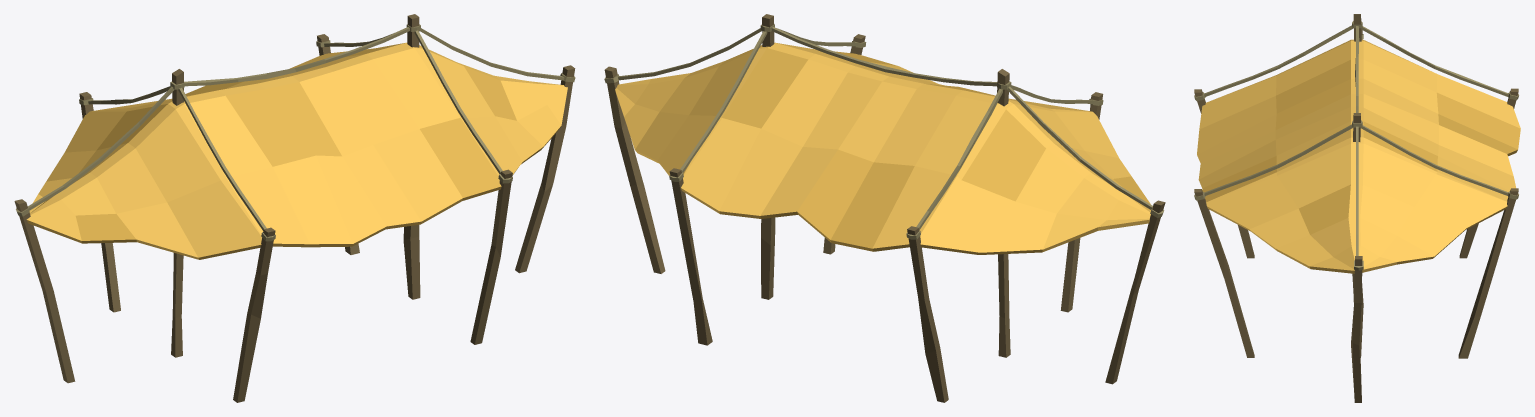
The model's file is Market_2.fbx.
3 renders of one model, left to right at view 1: azimuth 30°, elevation 25°; view 2: azimuth 150°, elevation 25°; view 3: azimuth 270°, elevation 25°, orthographic. The views are drawn at different scales.
Visible parts, largest first — view 1: Market_2; view 2: Market_2; view 3: Market_2.
Boxes of the visible parts, x1,y1,x2,y2 form: Market_2: (14, 14, 575, 402); Market_2: (604, 14, 1165, 402); Market_2: (1194, 14, 1520, 402).
Size of the model in its own units: 941 by 458 by 555.
